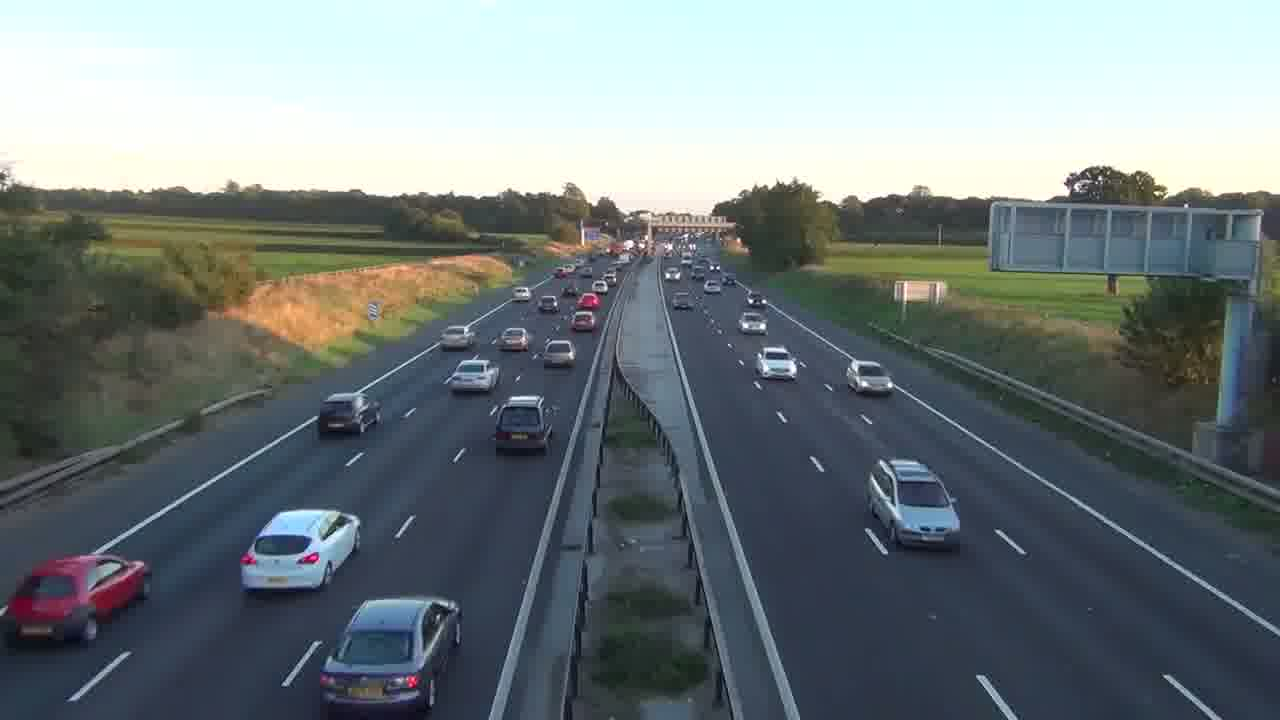car: (317, 595, 463, 717), (239, 508, 362, 594), (865, 457, 961, 550), (444, 358, 500, 393), (845, 359, 894, 397), (755, 345, 800, 382), (542, 337, 576, 367), (496, 327, 530, 353), (441, 325, 472, 350), (570, 310, 596, 333)
truck: (0, 553, 149, 647), (318, 390, 382, 437)
